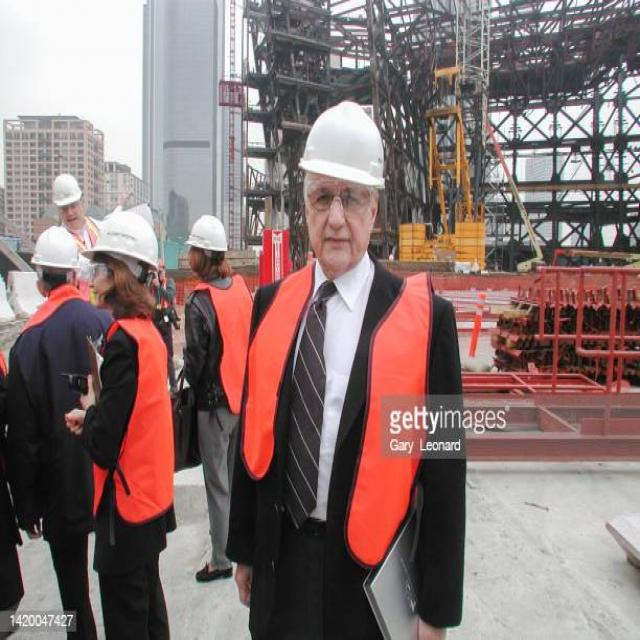Reflective-Jacket: (240, 257, 450, 573), (87, 311, 179, 534)
Safety-Helmet: (185, 281, 277, 428), (294, 95, 393, 198), (85, 202, 169, 280), (25, 222, 84, 276), (183, 208, 233, 259), (48, 168, 86, 214)
